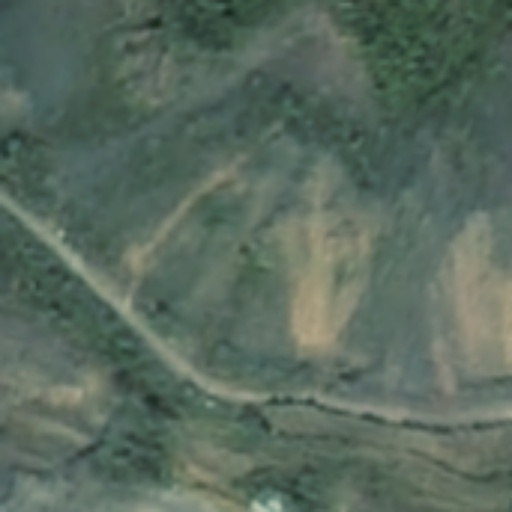landslide: (293, 211, 358, 354), (452, 223, 510, 357)
